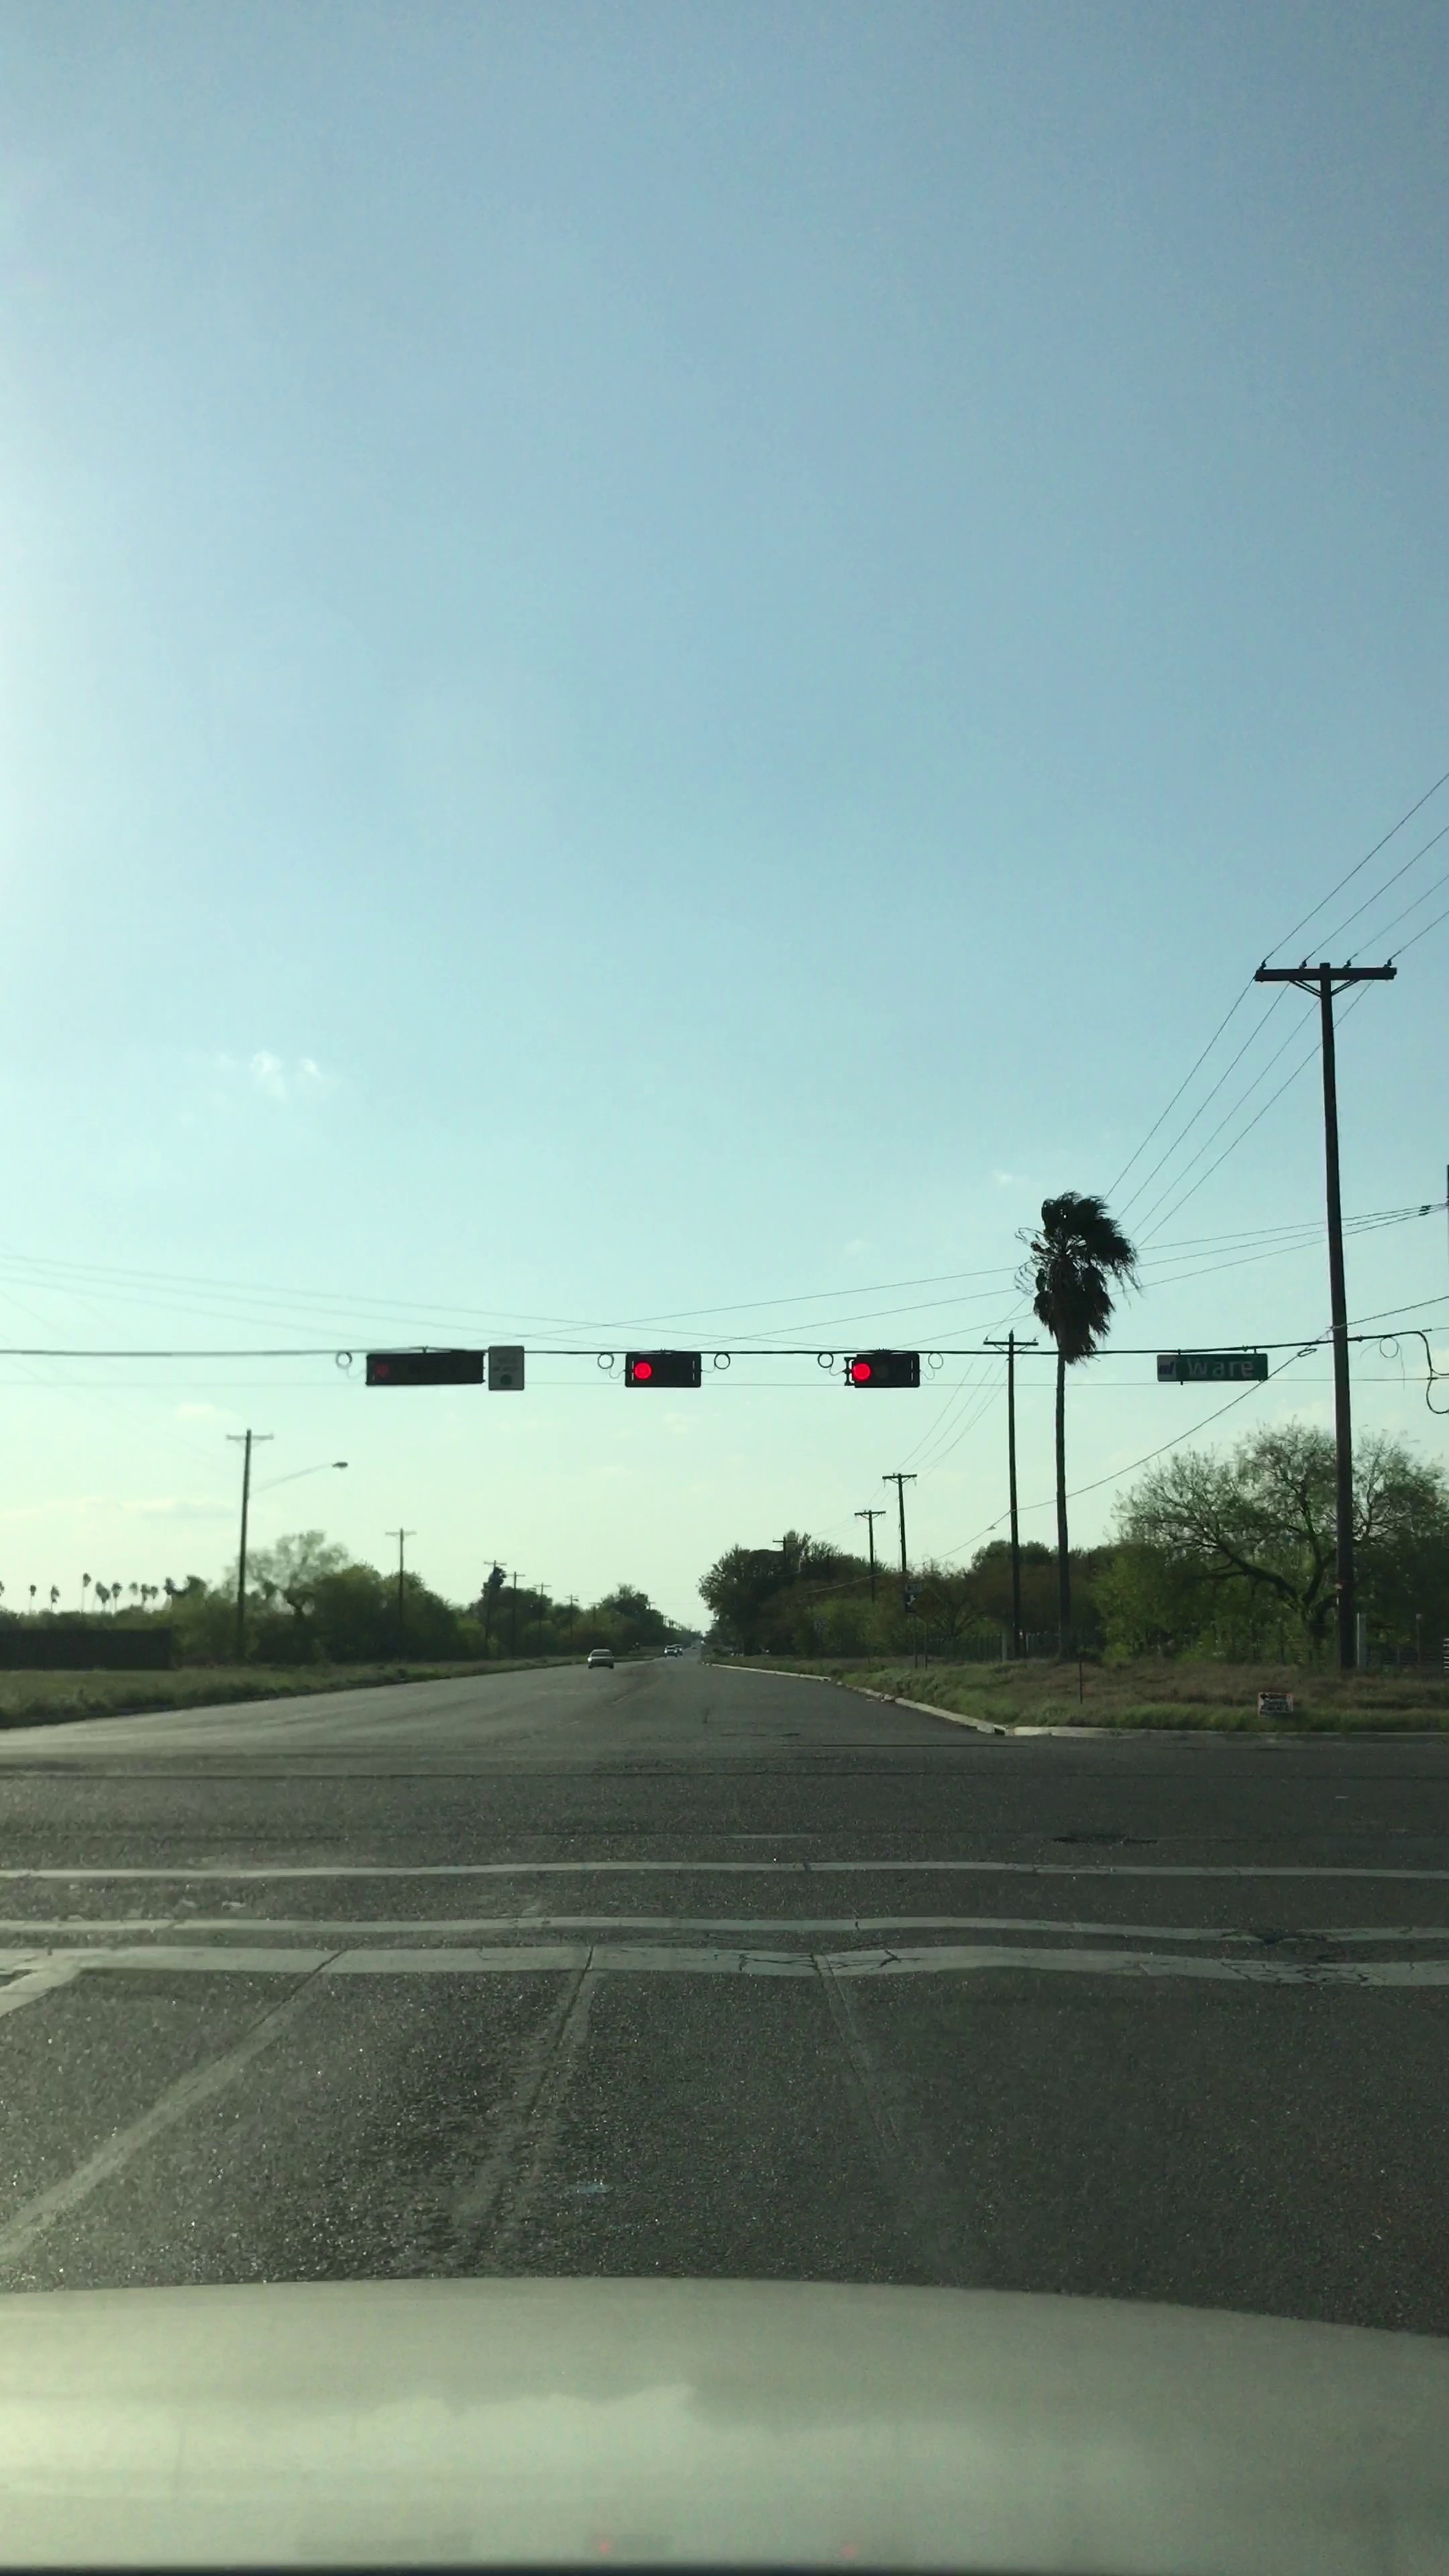blurredLine: (1145, 1890, 1396, 2012)
crack: (444, 1927, 617, 2266), (223, 1941, 366, 2066), (715, 1939, 952, 1985)
